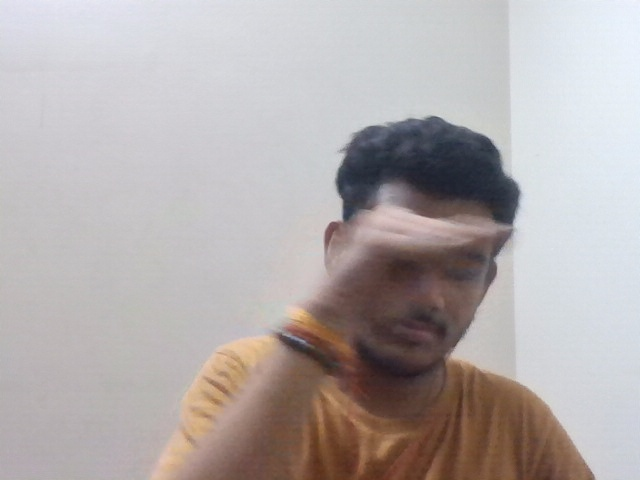no: (310, 198, 516, 354)
